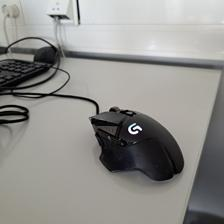mouse: (87, 105, 185, 182)
